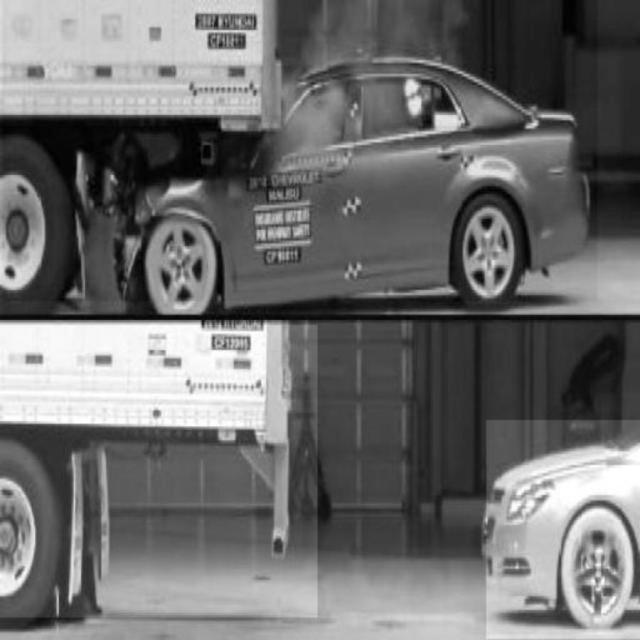accident: (2, 1, 598, 302)
vehicle: (0, 325, 317, 617), (486, 420, 640, 638)
